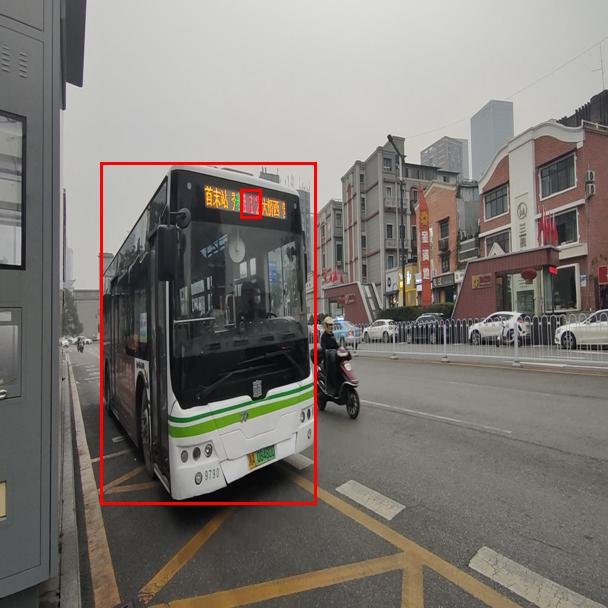bus: (100, 162, 316, 504)
screen: (240, 189, 261, 218)
